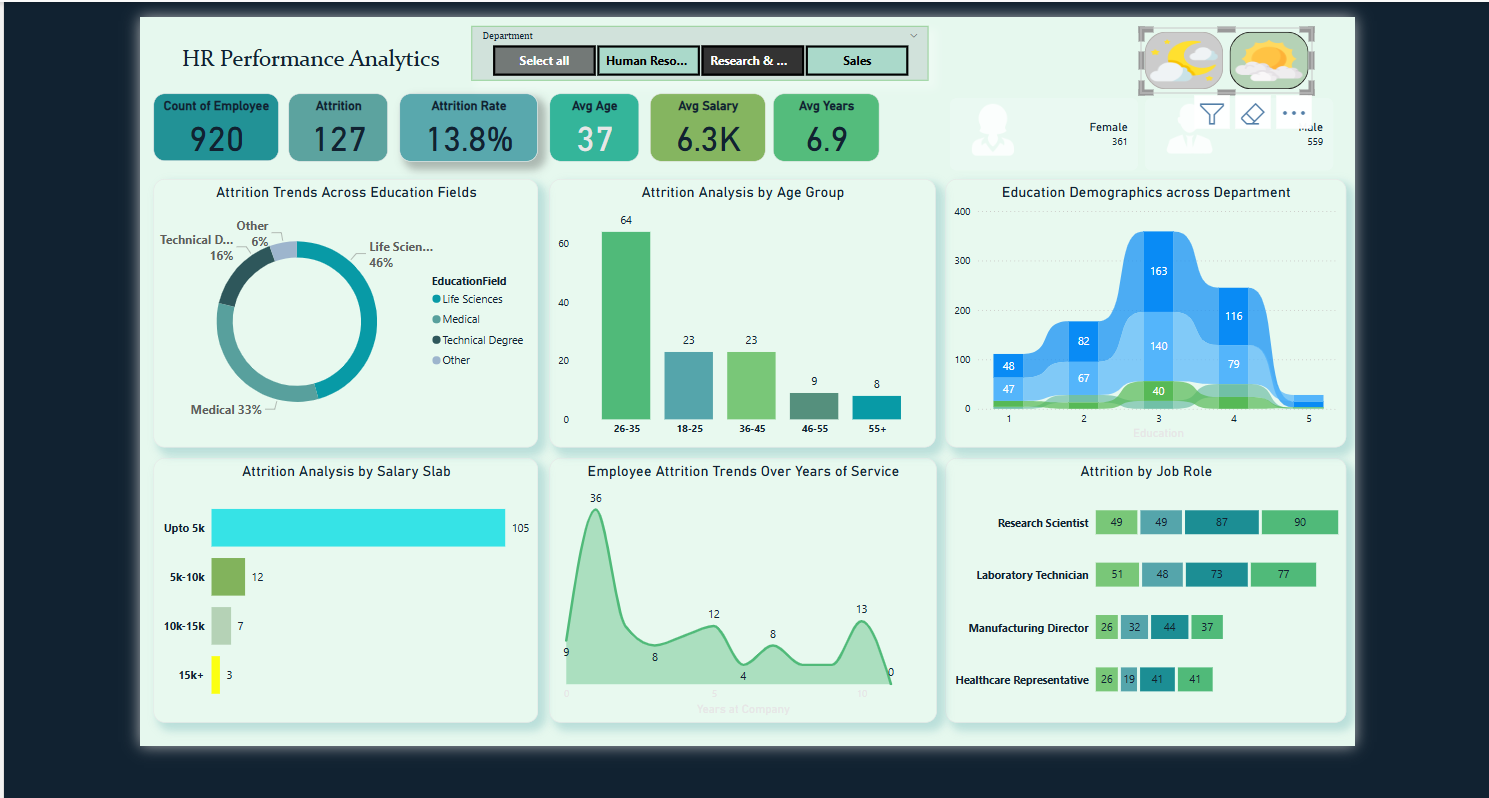

This screenshot's page, from the dashboard's own definition file:
{"tool":"powerbi","page":{"name":"Page 1","canvas":[1500,900],"ordinal":0},"visuals":[{"type":"shape","box":[0,0,1500,900],"z":0},{"type":"card","title":"Count of Employee","fields":{"Values":["CountNonNull(HR_Analytics.EmpID)"]},"box":[16,94,154.4,83.4],"z":1000},{"type":"card","title":"Attrition","fields":{"Values":["Sum(HR_Analytics.AttritionCount)"]},"box":[183,93.6,122.9,83.8],"z":2000},{"type":"card","title":"Attrition Rate","fields":{"Values":["HR_Analytics.AttritionRate"]},"box":[321.3,93.6,170.4,83.8],"z":3000},{"type":"card","title":"Avg Age","fields":{"Values":["Avg(HR_Analytics.Age)"]},"box":[505.7,93.6,110.4,83.8],"z":4000},{"type":"card","title":"Avg Salary","fields":{"Values":["Avg(HR_Analytics.MonthlyIncome)"]},"box":[630,93.6,142.5,83.8],"z":5000},{"type":"card","title":"Avg Years","fields":{"Values":["Avg(HR_Analytics.YearsAtCompany)"]},"box":[782.3,93.6,131.3,83.8],"z":6000},{"type":"donutChart","title":"Attrition Trends Across Education Fields","fields":{"Category":["HR_Analytics.EducationField"],"Y":["Sum(HR_Analytics.AttritionCount)"]},"box":[16.8,199.8,474.9,331.1],"z":7000},{"type":"columnChart","title":"Attrition Analysis by Age Group","fields":{"Category":["HR_Analytics.AgeGroup"],"Y":["Sum(HR_Analytics.AttritionCount)"]},"box":[505.7,199.8,476.3,331.1],"z":8000},{"type":"barChart","title":"Attrition Analysis by Salary Slab","fields":{"Category":["HR_Analytics.SalarySlab"],"Y":["Sum(HR_Analytics.AttritionCount)"]},"box":[16.8,544.8,474.9,326.9],"z":9000},{"type":"barChart","title":"Attrition by Job Role","fields":{"Y":["CountNonNull(HR_Analytics.JobRole)"],"Series":["HR_Analytics.JobSatisfaction"],"Category":["HR_Analytics.JobRole"]},"box":[994.6,544.8,494.5,326.9],"z":10000},{"type":"areaChart","title":"Employee Attrition Trends Over Years of Service","fields":{"Category":["HR_Analytics.YearsAtCompany"],"Y":["Sum(HR_Analytics.AttritionCount)"]},"box":[505.7,544.8,477.7,326.9],"z":11000},{"type":"slicer","fields":{"Values":["HR_Analytics.Department"]},"box":[409.3,11.2,564.3,67.4],"z":12000},{"type":"ribbonChart","title":"Education Demographics across Department ","fields":{"Category":["HR_Analytics.Education"],"Y":["CountNonNull(HR_Analytics.Department)"],"Series":["HR_Analytics.EducationField"]},"box":[994.6,199.8,494.5,331.1],"z":13000},{"type":"image","box":[1260.2,102.3,73.4,71.9],"z":14000},{"type":"image","box":[1012.5,102.3,79.7,74.2],"z":15000},{"type":"advancedSlicerVisual","fields":{"Values":["HR_Analytics.Gender"]},"box":[994,94,484,100],"z":16000},{"type":"advancedSlicerVisual","fields":{"Values":["Dark_Mode.Label"]},"box":[1235.4,12.5,212.5,81.2],"z":17000},{"type":"shape","box":[27.4,11.3,366.1,79],"z":18000}]}

Visuals, with their boxes on the page's 1500x900 design canvas (x1, y1, x2, y2). These are canvas units, not pixel positions in the 1489x798 screenshot, which may show the page scaled, cropped or inside an application window:
shape: [0,0,1500,900]
"Count of Employee" card: [16,94,170,177]
"Attrition" card: [183,94,306,177]
"Attrition Rate" card: [321,94,492,177]
"Avg Age" card: [506,94,616,177]
"Avg Salary" card: [630,94,772,177]
"Avg Years" card: [782,94,914,177]
"Attrition Trends Across Education Fields" donutChart: [17,200,492,531]
"Attrition Analysis by Age Group" columnChart: [506,200,982,531]
"Attrition Analysis by Salary Slab" barChart: [17,545,492,872]
"Attrition by Job Role" barChart: [995,545,1489,872]
"Employee Attrition Trends Over Years of Service" areaChart: [506,545,983,872]
slicer - HR_Analytics.Department: [409,11,974,79]
"Education Demographics across Department " ribbonChart: [995,200,1489,531]
image: [1260,102,1334,174]
image: [1012,102,1092,176]
advancedSlicerVisual - HR_Analytics.Gender: [994,94,1478,194]
advancedSlicerVisual - Dark_Mode.Label: [1235,12,1448,94]
shape: [27,11,394,90]
